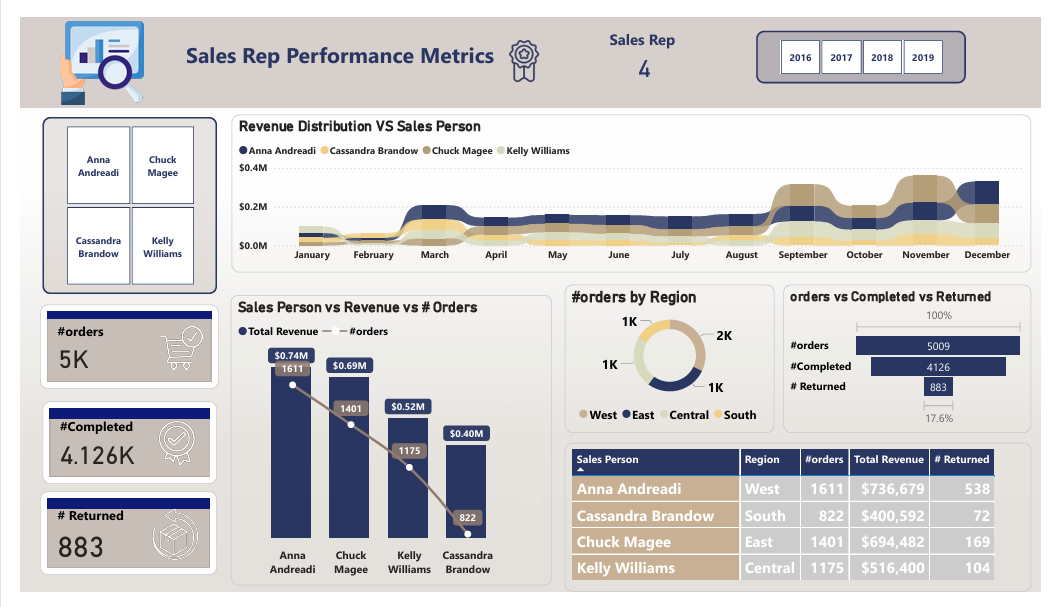

What the dashboard file says about the page in this screenshot:
{"tool":"powerbi","page":{"name":"Sales person","canvas":[1280,720],"ordinal":2},"visuals":[{"type":"ribbonChart","title":" Revenue Distribution VS Sales Person","fields":{"Category":["Order.Order Date.Variation.Date Hierarchy.Month"],"Y":["Measuers (2).Total Revenue"],"Series":["Sales person.Person"]},"box":[265.4,121.9,1002.6,197.9],"z":0},{"type":"cardVisual","fields":{"Data":["Measuers (2).#Completed"]},"box":[27.7,481.4,219.6,103.8],"z":1000},{"type":"funnel","title":"orders vs Completed vs Returned","fields":{"Y":["Measuers (2).#orders","Measuers (2).#Completed","Measuers (2).# Returned"]},"box":[956.7,335.4,311.3,185.8],"z":2000},{"type":"lineClusteredColumnComboChart","title":"Sales Person vs Revenue vs # Orders","fields":{"Y":["Measuers (2).Total Revenue"],"Y2":["Measuers (2).#orders"],"Category":["Sales person.Person"]},"box":[264.4,347.8,402.2,364.4],"z":3000},{"type":"tableEx","fields":{"Values":["Sales person.Person","Sales person.Region","Measuers (2).#orders","Measuers (2).Total Revenue","Measuers (2).# Returned"]},"box":[683.3,533.3,584.4,186.7],"z":4000},{"type":"shape","box":[0,1.2,1280,113.4],"z":5000},{"type":"cardVisual","fields":{"Data":["Measuers (2).# Returned"]},"box":[25.3,593.6,222,105],"z":6000},{"type":"cardVisual","fields":{"Data":["Measuers (2).#orders"]},"box":[25.3,359.5,223.2,106.2],"z":7000},{"type":"image","box":[3.6,0,197.9,114.6],"z":8000},{"type":"donutChart","fields":{"Category":["Sales person.Region"],"Y":["Measuers (2).#orders"]},"box":[682.8,334.9,263,185.8],"z":9000},{"type":"slicer","fields":{"Values":["Order.Order Date.Variation.Date Hierarchy.Year"]},"box":[922.9,16.9,263,66.4],"z":10000},{"type":"textbox","box":[202.7,22.9,407.8,68.8],"z":11000},{"type":"image","box":[597.2,16.9,70,74.8],"z":12000},{"type":"textbox","box":[733.5,9.7,106.2,41],"z":13000},{"type":"card","fields":{"Values":["Measuers (2).#SAles Person"]},"box":[751.6,42.2,62.7,41],"z":14000},{"type":"slicer","fields":{"Values":["Sales person.Sales Person"]},"box":[27.8,124.7,219.3,222.6],"z":15000}]}

Visuals, with their boxes in screenshot pixels (x1, y1, x2, y2), scaled from the page's 1280x720 canvas onto the 1056x607 screenshot:
" Revenue Distribution VS Sales Person" ribbonChart: BBox(219, 103, 1046, 270)
cardVisual - Measuers (2).#Completed: BBox(23, 406, 204, 493)
"orders vs Completed vs Returned" funnel: BBox(789, 283, 1046, 439)
"Sales Person vs Revenue vs # Orders" lineClusteredColumnComboChart: BBox(218, 293, 550, 600)
tableEx - Sales person.Person x Sales person.Region: BBox(564, 450, 1046, 606)
shape: BBox(0, 1, 1055, 97)
cardVisual - Measuers (2).# Returned: BBox(21, 500, 204, 589)
cardVisual - Measuers (2).#orders: BBox(21, 303, 205, 393)
image: BBox(3, 0, 166, 97)
donutChart - Sales person.Region x Measuers (2).#orders: BBox(563, 282, 780, 439)
slicer - Order.Order Date.Variation.Date Hierarchy.Year: BBox(761, 14, 978, 70)
textbox: BBox(167, 19, 504, 77)
image: BBox(493, 14, 550, 77)
textbox: BBox(605, 8, 693, 43)
card - Measuers (2).#SAles Person: BBox(620, 36, 672, 70)
slicer - Sales person.Sales Person: BBox(23, 105, 204, 293)
